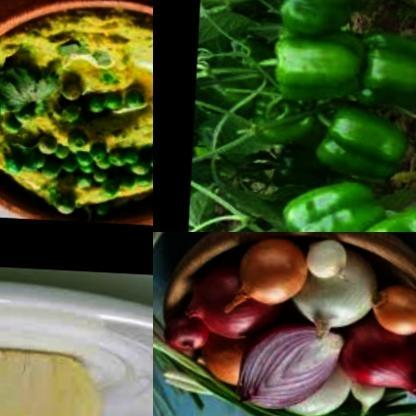bell pepper: (268, 24, 364, 112), (310, 104, 409, 184), (280, 177, 381, 232), (357, 24, 416, 113), (267, 0, 359, 36)
garlic: (0, 344, 119, 416)
onion: (236, 318, 356, 413), (184, 264, 293, 345), (298, 250, 380, 342), (224, 235, 312, 316), (339, 323, 416, 400), (194, 328, 262, 390), (294, 365, 364, 416), (307, 232, 366, 287), (368, 279, 416, 335), (347, 364, 393, 416), (162, 314, 216, 351)
pea: (13, 123, 153, 189), (79, 82, 153, 114), (52, 94, 93, 132), (48, 75, 92, 108), (48, 188, 86, 218), (0, 100, 28, 139), (8, 98, 36, 126), (91, 198, 117, 219)
